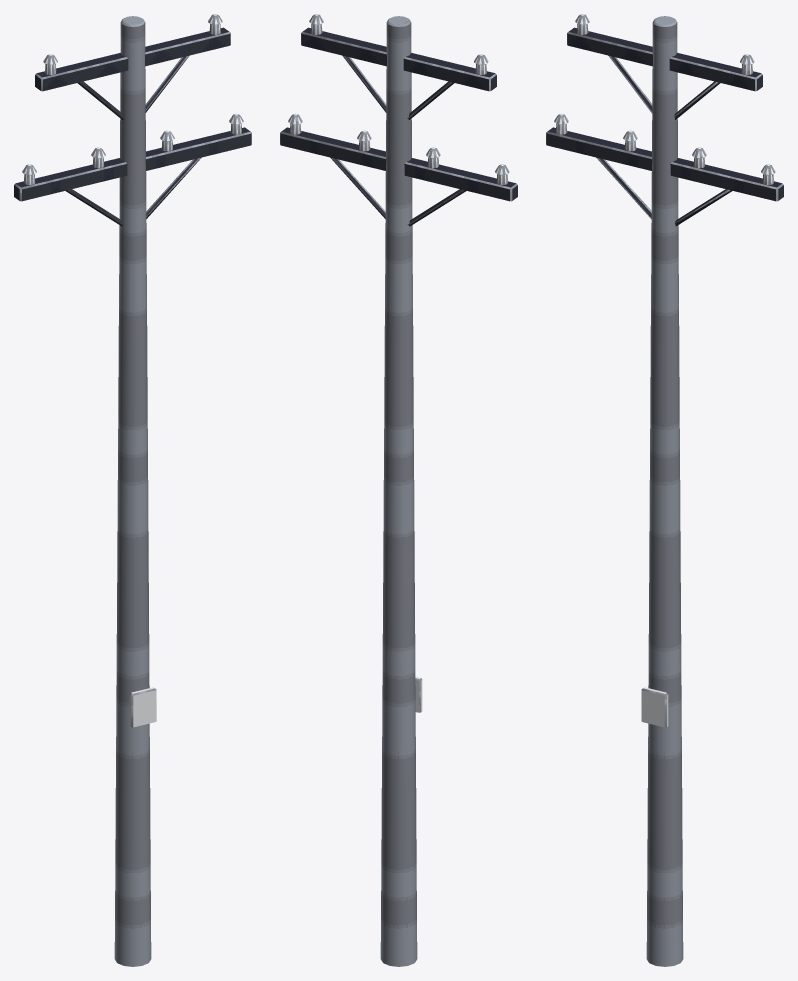
The model's file is cn_utility_pole_1.glb.
The picture shows the model from 3 angles, left to right: view 1: azimuth 30°, elevation 25°; view 2: azimuth 150°, elevation 25°; view 3: azimuth 330°, elevation 25°; orthographic projection.
Parts seen in each view (by area): view 1: cn_utility_pole_2; view 2: cn_utility_pole_2; view 3: cn_utility_pole_2.
Boxes of the visible parts, x1,y1,x2,y2 form: cn_utility_pole_2: (14,14,251,966); cn_utility_pole_2: (280,14,517,966); cn_utility_pole_2: (546,14,783,966).
Bounding box in the file's own units: 2.2 × 8.5 × 0.34.
3 materials, 3 textured.
